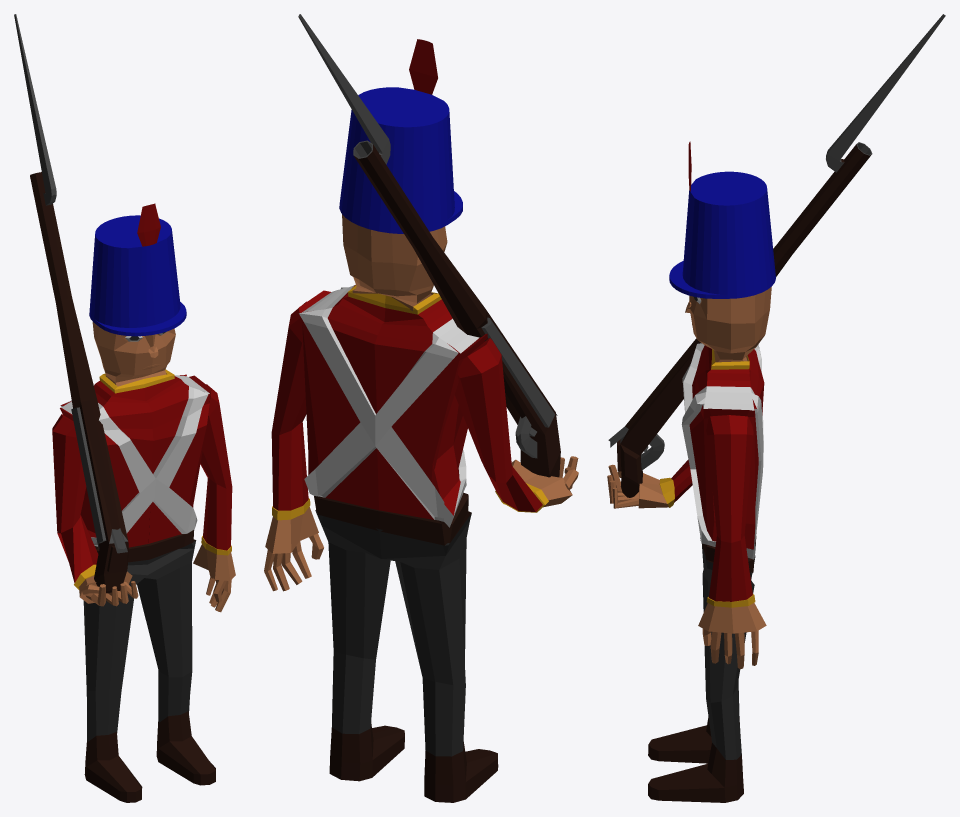
File: Frame3.obj
The picture shows the model from 3 angles, left to right: view 1: azimuth 30°, elevation 25°; view 2: azimuth 150°, elevation 25°; view 3: azimuth 270°, elevation 25°; orthographic projection. The views are drawn at different scales.
Parts seen in each view (by area): view 1: {Man}_Circle, {Mesket}_Cube.001; view 2: {Man}_Circle, {Mesket}_Cube.001; view 3: {Man}_Circle, {Mesket}_Cube.001.
Part boxes in pixels (box(x1,y1,x2,y2)): {Man}_Circle: box(52, 203, 235, 802); {Mesket}_Cube.001: box(14, 14, 128, 593); {Man}_Circle: box(264, 39, 578, 802); {Mesket}_Cube.001: box(298, 14, 560, 477); {Man}_Circle: box(607, 141, 775, 802); {Mesket}_Cube.001: box(608, 14, 945, 497).
Size of the model in its own units: 5.77 by 19.52 by 7.99.
